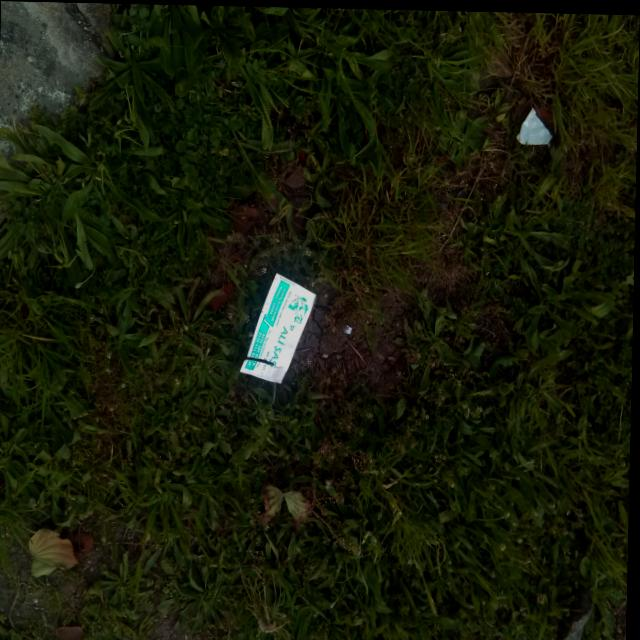Paper: (235, 267, 321, 387)
Plastic: (509, 97, 558, 150)
